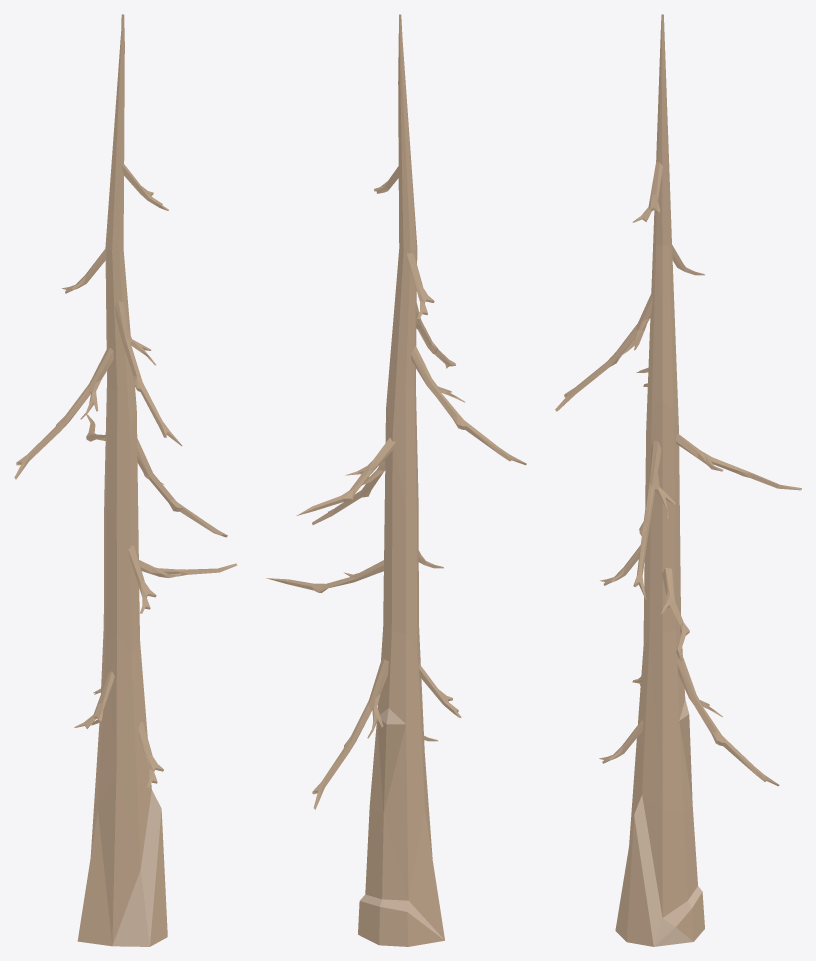
The model's file is dead-pine.glb.
3 views of the same model, side by side, from view 1: azimuth 30°, elevation 25°; view 2: azimuth 150°, elevation 25°; view 3: azimuth 270°, elevation 25° (orthographic).
Parts seen in each view (by area): view 1: Node; view 2: Node; view 3: Node.
Boxes of the visible parts, bbox=[...] form: Node: bbox=[14, 14, 237, 946]; Node: bbox=[266, 14, 526, 946]; Node: bbox=[555, 14, 801, 946].
Size of the model in its own units: 3.59 by 13 by 3.18.
